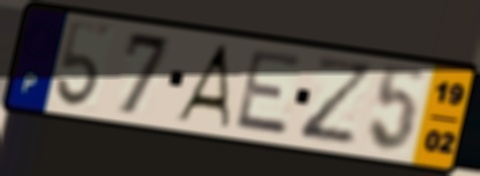5: (53, 17, 120, 111), (368, 65, 428, 157)
7: (120, 28, 171, 118)
A: (171, 42, 233, 131)
E: (231, 47, 306, 139)
Z: (296, 53, 378, 147)
